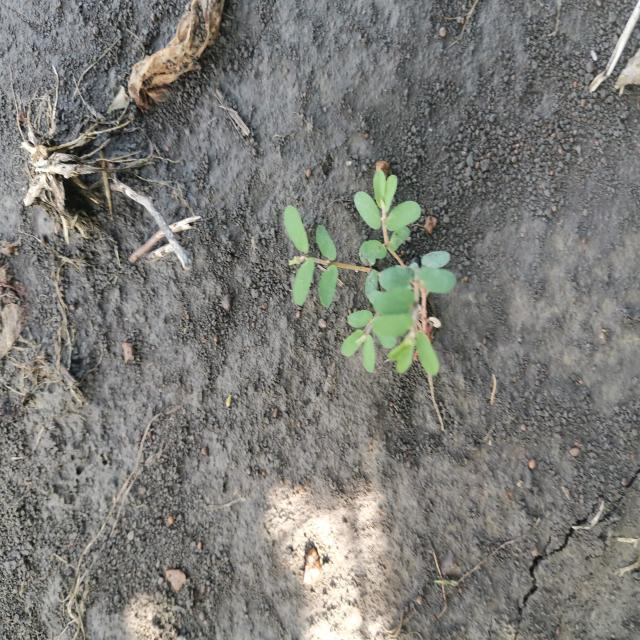SpottedSpurge: (281, 165, 458, 381)
